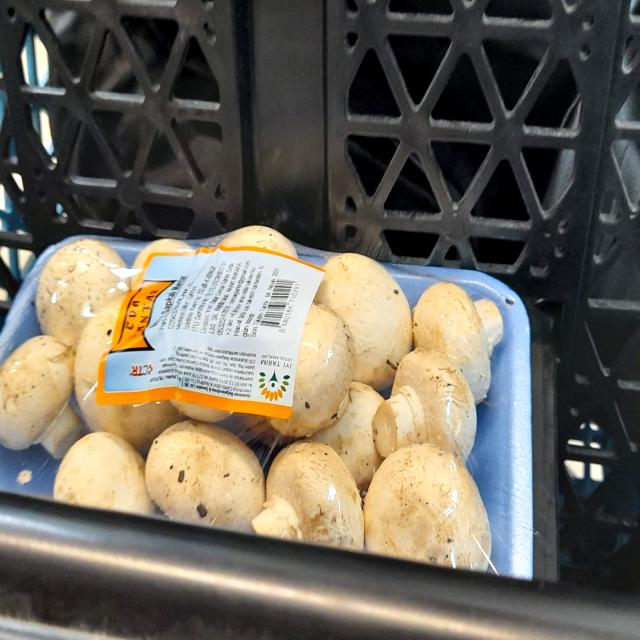mushroom: (358, 434, 496, 591), (250, 432, 370, 570), (370, 334, 482, 470), (408, 266, 507, 408), (0, 334, 90, 461)
